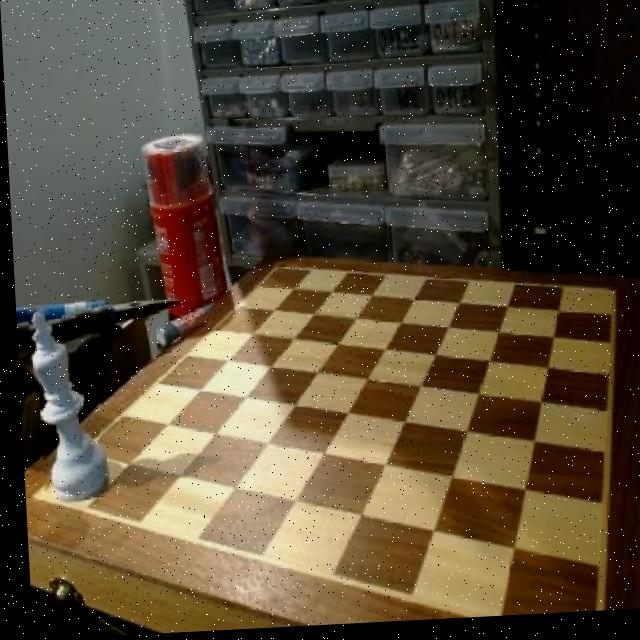white-bishop: (26, 303, 102, 504)
